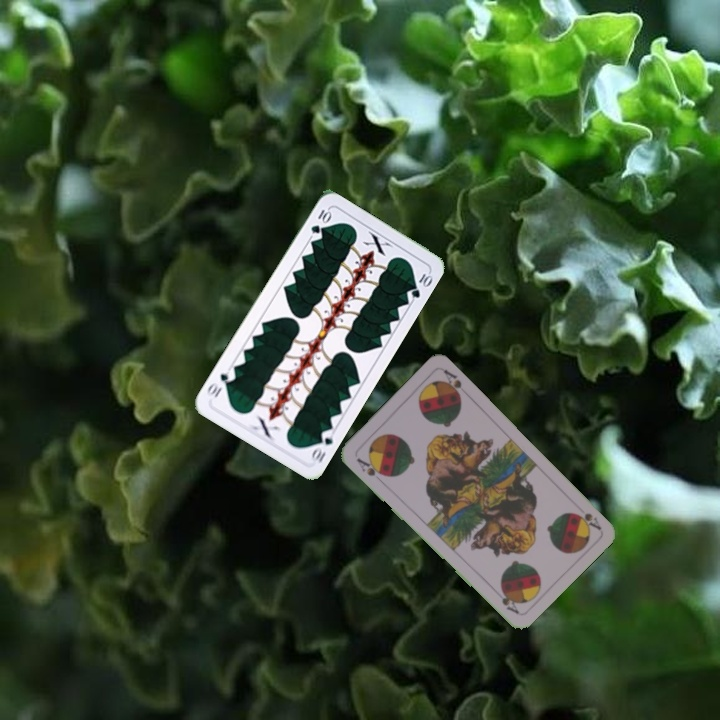G10: (306, 425, 336, 465), (307, 205, 333, 237)
SA: (353, 454, 389, 479), (571, 508, 604, 533)
